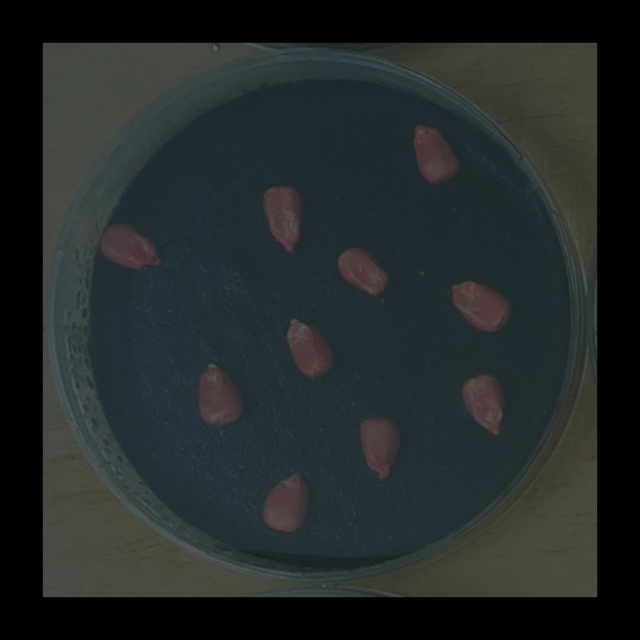Zea mays: (443, 274, 517, 338), (191, 354, 249, 432), (256, 463, 315, 539), (93, 216, 169, 275), (408, 115, 464, 190), (257, 177, 308, 258), (281, 310, 338, 382), (353, 409, 407, 485), (458, 365, 511, 440), (332, 240, 395, 301)
